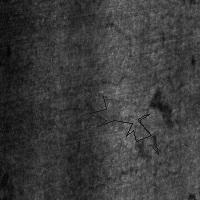crazing: (89, 96, 158, 154), (91, 21, 134, 106)
